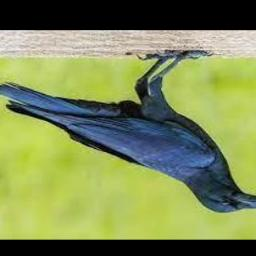Crow: (0, 52, 256, 213)
